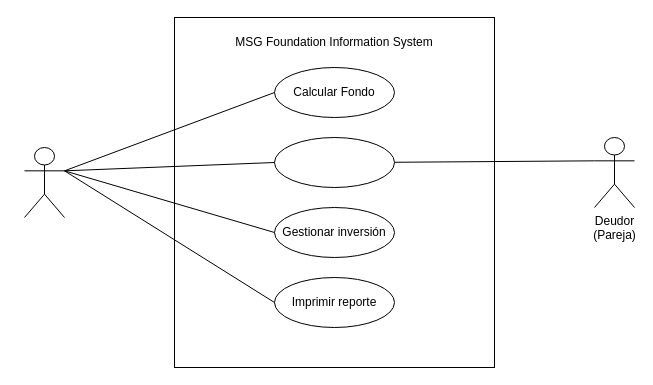
Some shapes in this 653 by 385 pixel diagram are drawn without their labels. Here are the shapes that lost their labels. From the top down, the box of each, then its label:
(24, 146, 64, 218): Empleado MSGF
(274, 136, 394, 188): Gestionar Hipoteca
